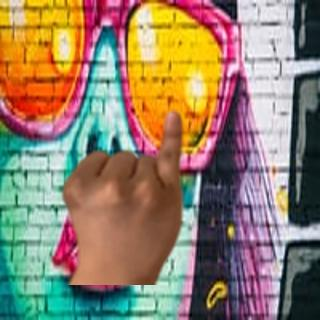FINE: (57, 108, 189, 275)
